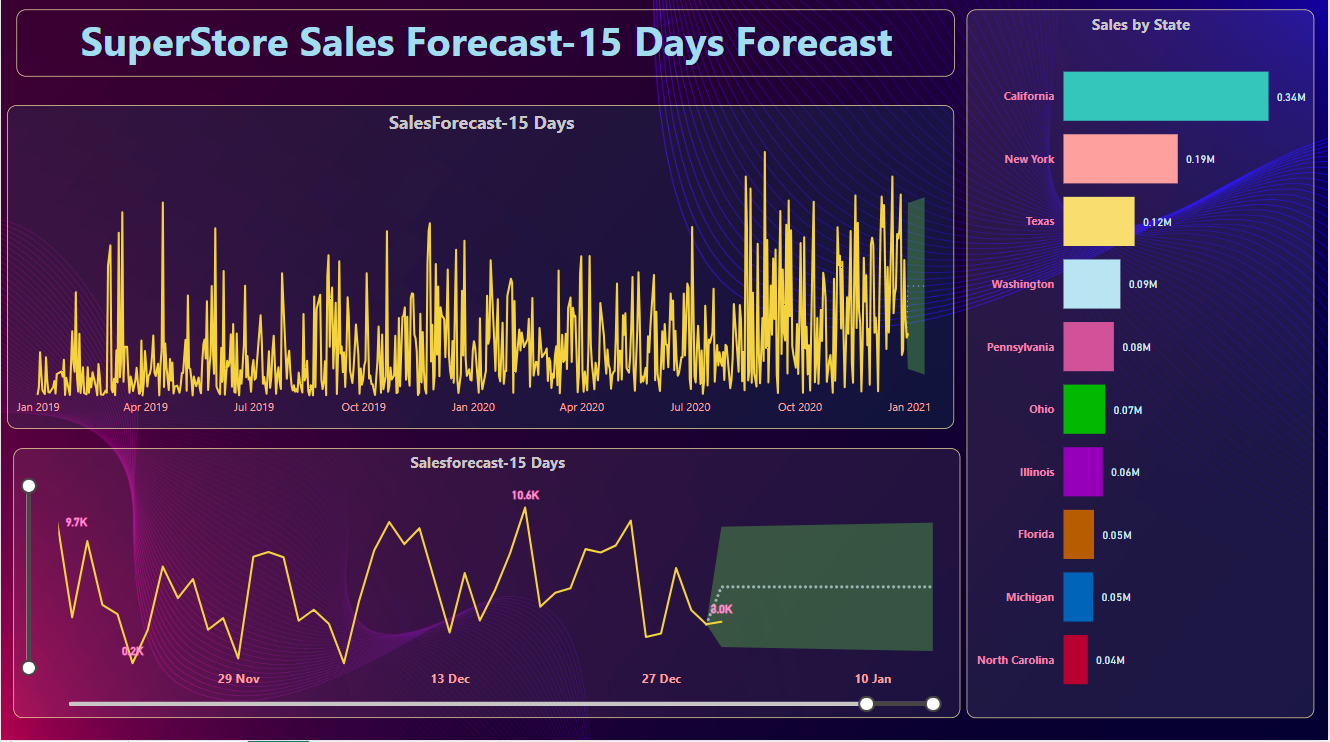

The page's visual inventory and layout, read from the dashboard file:
{"tool":"powerbi","page":{"name":"Page 2","canvas":[1280,720],"ordinal":1},"visuals":[{"type":"lineChart","title":"SalesForecast-15 Days","fields":{"Category":["SuperStore_Sales_Dataset.Order Date"],"Y":["Sum(SuperStore_Sales_Dataset.Sales)"]},"box":[6.7,106.7,913.3,311.7],"z":0},{"type":"lineChart","title":"Salesforecast-15 Days","fields":{"Category":["SuperStore_Sales_Dataset.Order Date"],"Y":["Sum(SuperStore_Sales_Dataset.Sales)"]},"box":[11.7,438.3,913.3,260],"z":1000},{"type":"clusteredBarChart","title":"Sales by State","fields":{"Category":["SuperStore_Sales_Dataset.State"],"Y":["Sum(SuperStore_Sales_Dataset.Sales)"]},"box":[931.7,15,335,683.3],"z":2000},{"type":"textbox","title":"SuperStore Sales Forecast-15 Days Forecast","box":[15,15,905,65],"z":3000}]}

Visuals, with their boxes in screenshot pixels (x1, y1, x2, y2), scaled from the page's 1280x720 canvas onto the 1330x742 screenshot:
"SalesForecast-15 Days" lineChart: {"left": 7, "top": 110, "right": 956, "bottom": 431}
"Salesforecast-15 Days" lineChart: {"left": 12, "top": 452, "right": 961, "bottom": 720}
"Sales by State" clusteredBarChart: {"left": 968, "top": 15, "right": 1316, "bottom": 720}
"SuperStore Sales Forecast-15 Days Forecast" textbox: {"left": 16, "top": 15, "right": 956, "bottom": 82}
